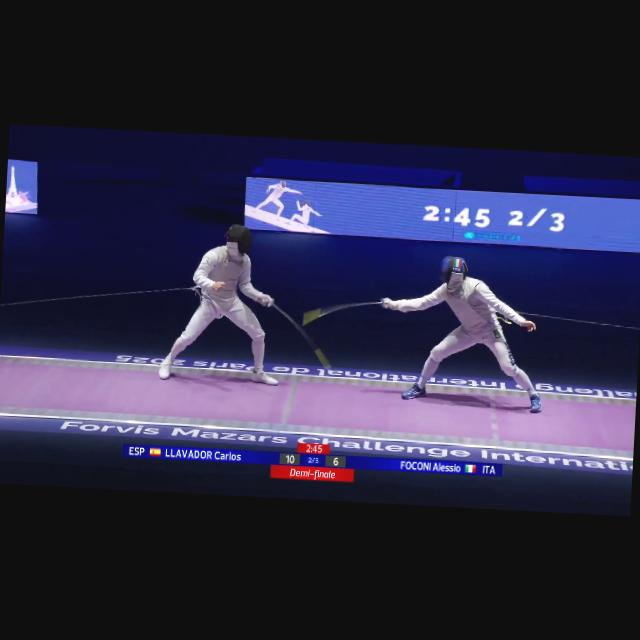blade: (262, 297, 336, 377), (303, 290, 392, 332)
